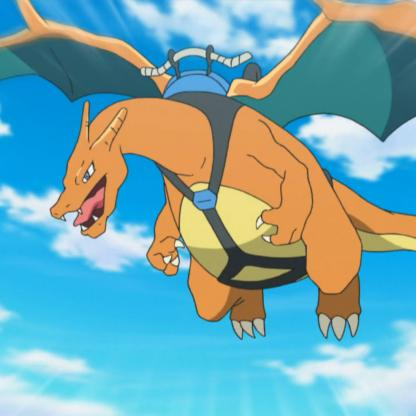Charizard: (1, 1, 416, 367)
